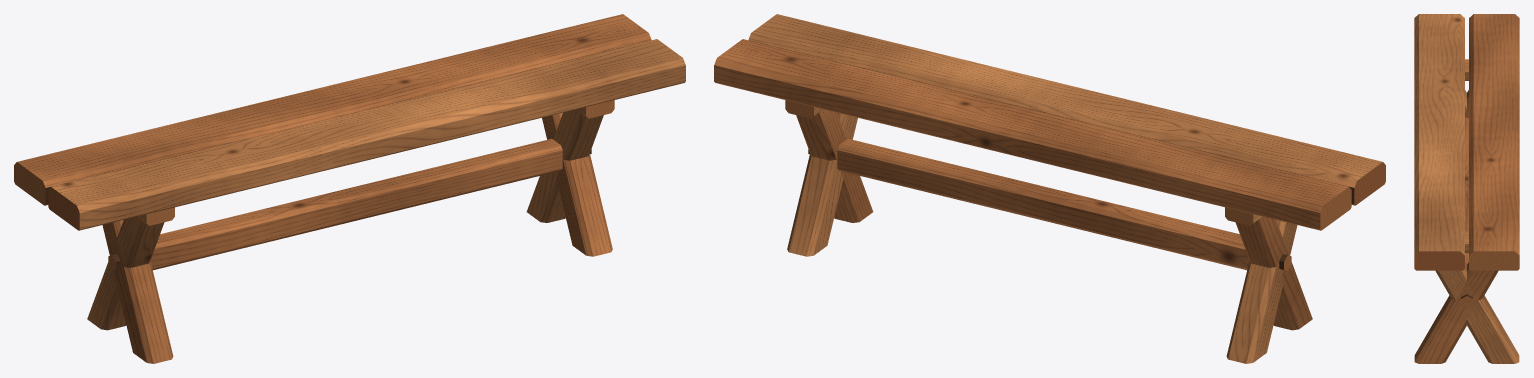
File: FMS_Deco_Bench_Plank.fbx
3 views of the same model, side by side, from view 1: azimuth 30°, elevation 25°; view 2: azimuth 150°, elevation 25°; view 3: azimuth 270°, elevation 25° (orthographic). The views are drawn at different scales.
Parts seen in each view (by area): view 1: item_decor_bench_plank; view 2: item_decor_bench_plank; view 3: item_decor_bench_plank.
Part boxes in pixels (box(x1,y1,x2,y2)): item_decor_bench_plank: box(14, 14, 685, 363); item_decor_bench_plank: box(714, 14, 1385, 363); item_decor_bench_plank: box(1414, 14, 1519, 363).
Bounding box in the file's own units: 1.6 × 0.44 × 0.3.
